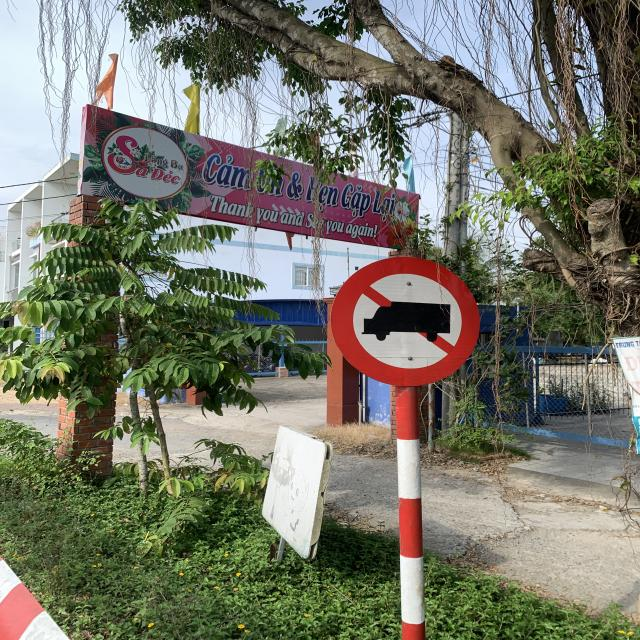Cam_Xe_Tai: (327, 252, 481, 387)
